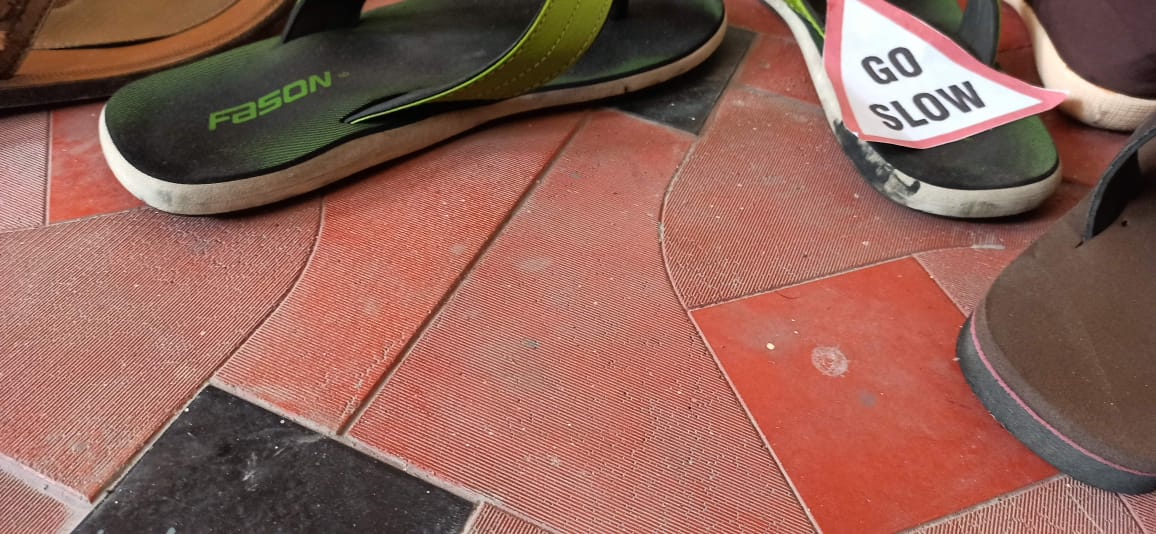GO SLOW: (811, 1, 1081, 148)
